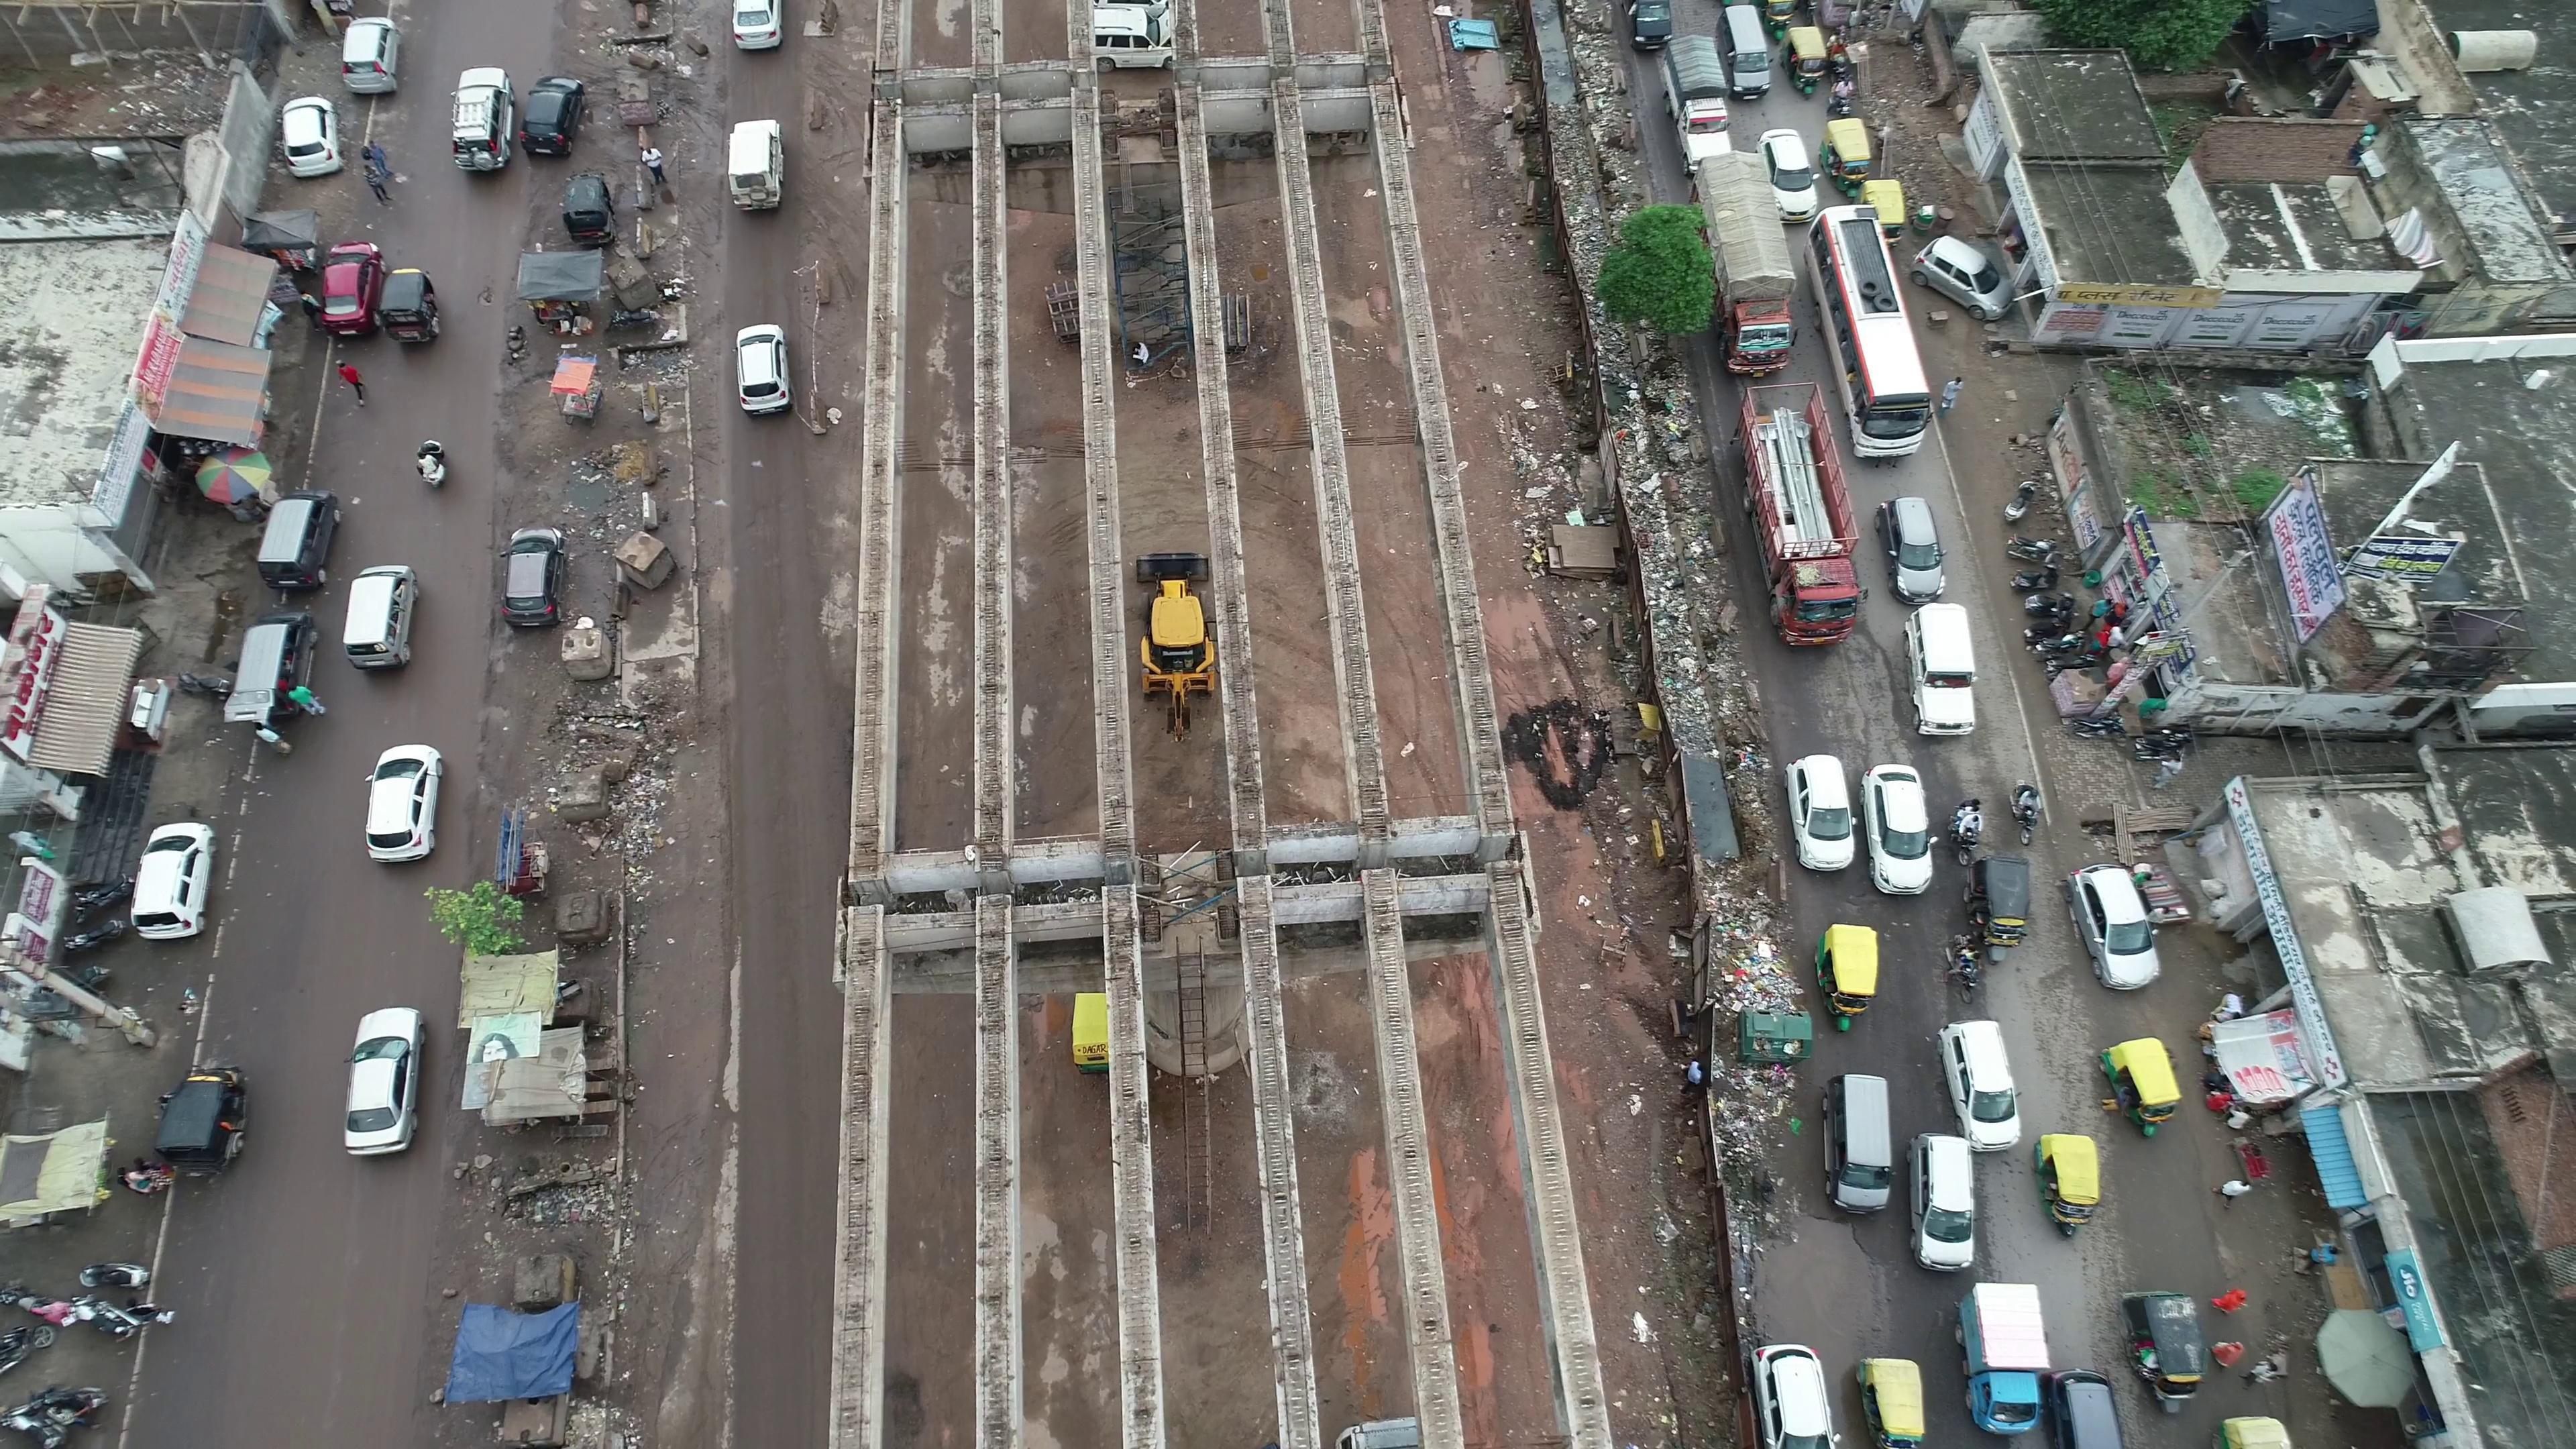Road_side_garbage: (1626, 389, 1736, 715), (1702, 867, 1790, 1008)
